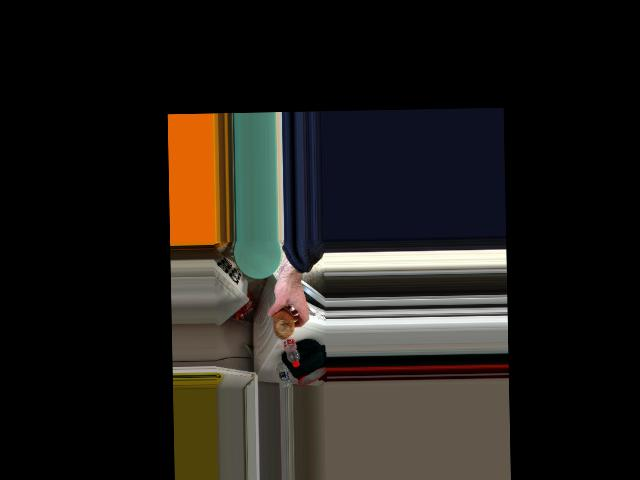sweet_potato: (269, 301, 300, 338)
